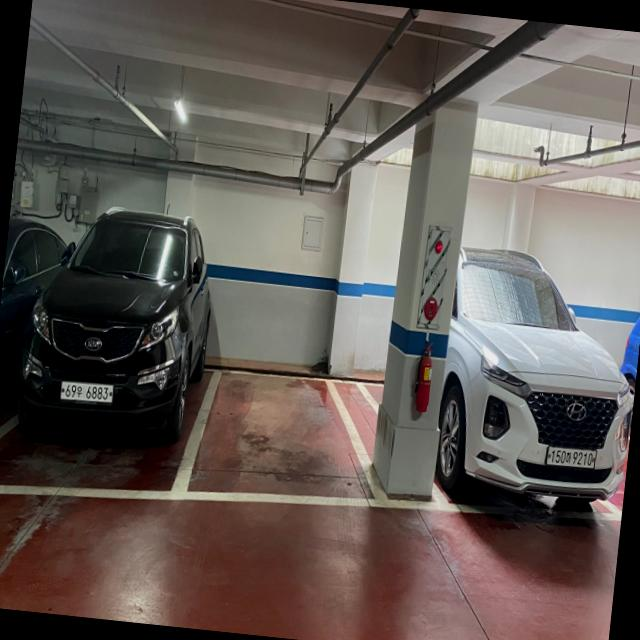car: (436, 240, 640, 510), (18, 202, 212, 446)
free: (183, 363, 402, 518)
